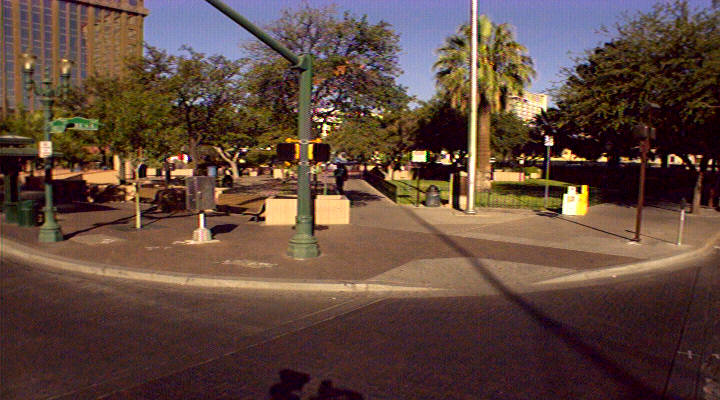Ramp: (356, 255, 590, 297)
